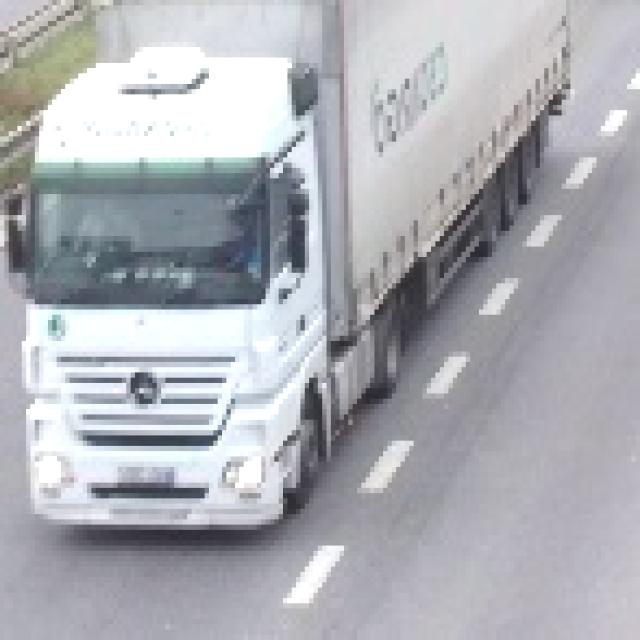TRUCK: (11, 0, 577, 535)
